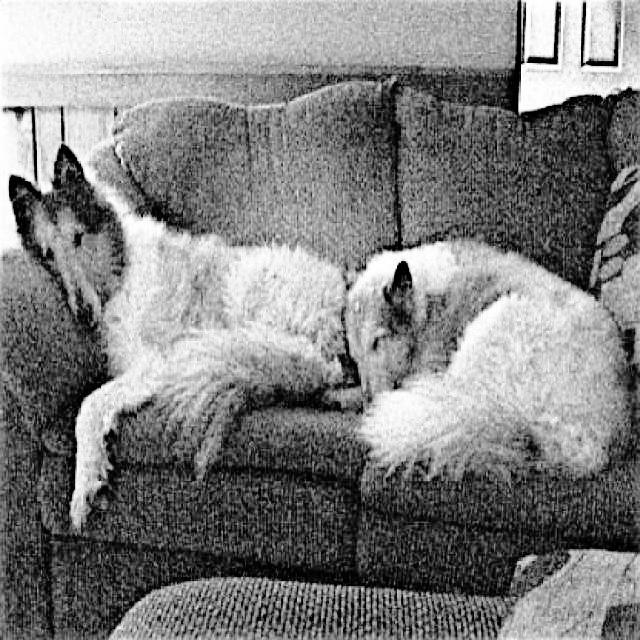Dog: (8, 141, 351, 537), (341, 235, 630, 500)
